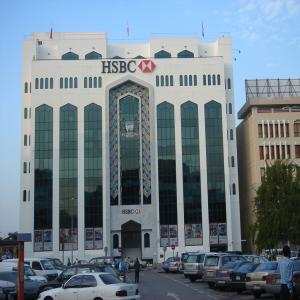Vehicle-registration-plate: (275, 277, 288, 284), (203, 271, 213, 280), (130, 291, 137, 297), (220, 280, 226, 286), (256, 285, 262, 291), (188, 267, 194, 272), (236, 277, 242, 282)
